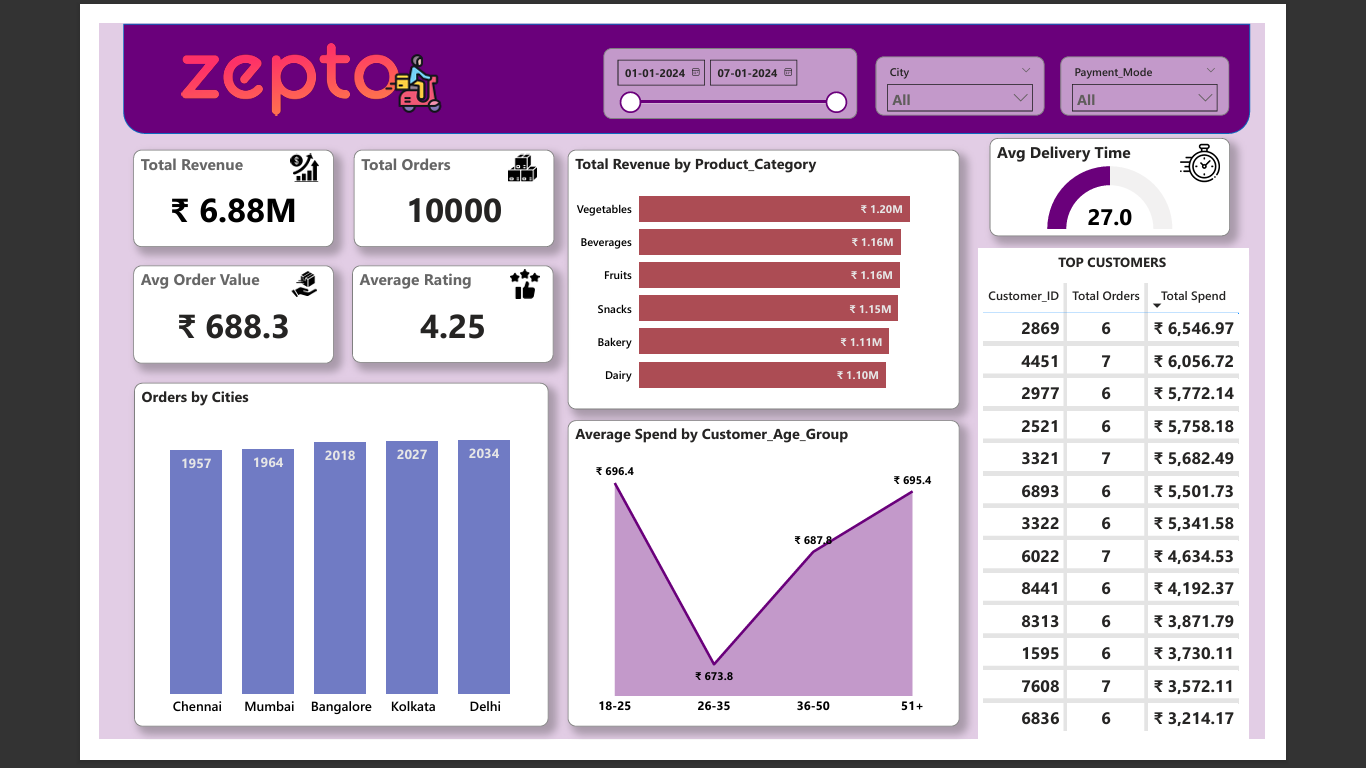

Layout of this report page (visuals, bound fields, positions):
{"tool":"powerbi","page":{"name":"Report","canvas":[1400,860],"ordinal":0},"visuals":[{"type":"shape","box":[27.6,0,1354.1,132.3],"z":0},{"type":"image","box":[55.1,18.4,347.2,95.5],"z":1000},{"type":"slicer","fields":{"Values":["Zepto data.Order_Timestamp"]},"box":[604.9,28.5,305.1,85.6],"z":2000},{"type":"image","box":[305,29.4,143.3,84.5],"z":3000},{"type":"slicer","fields":{"Values":["Zepto data.City"]},"box":[932,38.7,203,71.5],"z":4000},{"type":"slicer","fields":{"Values":["Zepto data.Payment_Mode"]},"box":[1154.4,38.7,203,71.5],"z":5000},{"type":"card","title":"Total Revenue","fields":{"Values":["Measures (2).Total Revenue"]},"box":[40.4,150.7,240.7,117.6],"z":6000},{"type":"card","title":"Total Orders","fields":{"Values":["Measures (2).Total Orders"]},"box":[305,150.7,240.7,117.6],"z":7000},{"type":"card","title":"Avg Order Value","fields":{"Values":["Measures (2).Average Order Value"]},"box":[40.4,290.3,240.7,117.6],"z":8000},{"type":"gauge","title":"Avg Delivery Time","fields":{"Y":["Measures (2).Average Delivery Time"]},"box":[1068.8,137.4,289,117.8],"z":9000},{"type":"barChart","fields":{"Category":["Zepto data.Product_Category"],"Y":["Measures (2).Total Revenue"]},"box":[561.9,150.6,471.2,312.8],"z":10000},{"type":"lineChart","fields":{"Category":["Zepto data.Customer_Age_Group"],"Y":["Measures (2).Average Spend"]},"box":[562,476.4,471,367.6],"z":12000},{"type":"columnChart","title":"Orders by Cities","fields":{"Y":["Measures (2).Total Orders"],"Category":["Zepto data.City"]},"box":[40.6,430.6,498.2,413.2],"z":12001},{"type":"card","title":"Average Rating","fields":{"Values":["Measures (2).Average Rating"]},"box":[303.2,289.7,241.4,117.8],"z":12002},{"type":"image","box":[210.8,150.8,69.6,44.5],"z":12003},{"type":"image","box":[475.7,150.8,63.8,44.5],"z":12004},{"type":"image","box":[210.8,290.1,69.6,44.5],"z":12005},{"type":"image","box":[475.7,290.1,69.6,44.5],"z":12006},{"type":"image","box":[1287.4,137.9,69.9,58.3],"z":12007},{"type":"tableEx","fields":{"Values":["Zepto data.Customer_ID","Measures (2).Total Orders","Sum(Zepto data.Total_Spend)"]},"box":[1056.3,306.8,324.3,553.4],"z":12008},{"type":"shape","box":[1056.3,269.9,324.3,36.9],"z":12009},{"type":"textbox","box":[1056.3,269.9,324.3,36.9],"z":12010}]}

Visuals, with their boxes on the page's 1400x860 design canvas (x1, y1, x2, y2). These are canvas units, not pixel positions in the 1366x768 screenshot, which may show the page scaled, cropped or inside an application window:
shape: (x1=28, y1=0, x2=1382, y2=132)
image: (x1=55, y1=18, x2=402, y2=114)
slicer - Zepto data.Order_Timestamp: (x1=605, y1=28, x2=910, y2=114)
image: (x1=305, y1=29, x2=448, y2=114)
slicer - Zepto data.City: (x1=932, y1=39, x2=1135, y2=110)
slicer - Zepto data.Payment_Mode: (x1=1154, y1=39, x2=1357, y2=110)
"Total Revenue" card: (x1=40, y1=151, x2=281, y2=268)
"Total Orders" card: (x1=305, y1=151, x2=546, y2=268)
"Avg Order Value" card: (x1=40, y1=290, x2=281, y2=408)
"Avg Delivery Time" gauge: (x1=1069, y1=137, x2=1358, y2=255)
barChart - Zepto data.Product_Category x Measures (2).Total Revenue: (x1=562, y1=151, x2=1033, y2=463)
lineChart - Zepto data.Customer_Age_Group x Measures (2).Average Spend: (x1=562, y1=476, x2=1033, y2=844)
"Orders by Cities" columnChart: (x1=41, y1=431, x2=539, y2=844)
"Average Rating" card: (x1=303, y1=290, x2=545, y2=408)
image: (x1=211, y1=151, x2=280, y2=195)
image: (x1=476, y1=151, x2=540, y2=195)
image: (x1=211, y1=290, x2=280, y2=335)
image: (x1=476, y1=290, x2=545, y2=335)
image: (x1=1287, y1=138, x2=1357, y2=196)
tableEx - Zepto data.Customer_ID x Measures (2).Total Orders: (x1=1056, y1=307, x2=1381, y2=860)
shape: (x1=1056, y1=270, x2=1381, y2=307)
textbox: (x1=1056, y1=270, x2=1381, y2=307)
